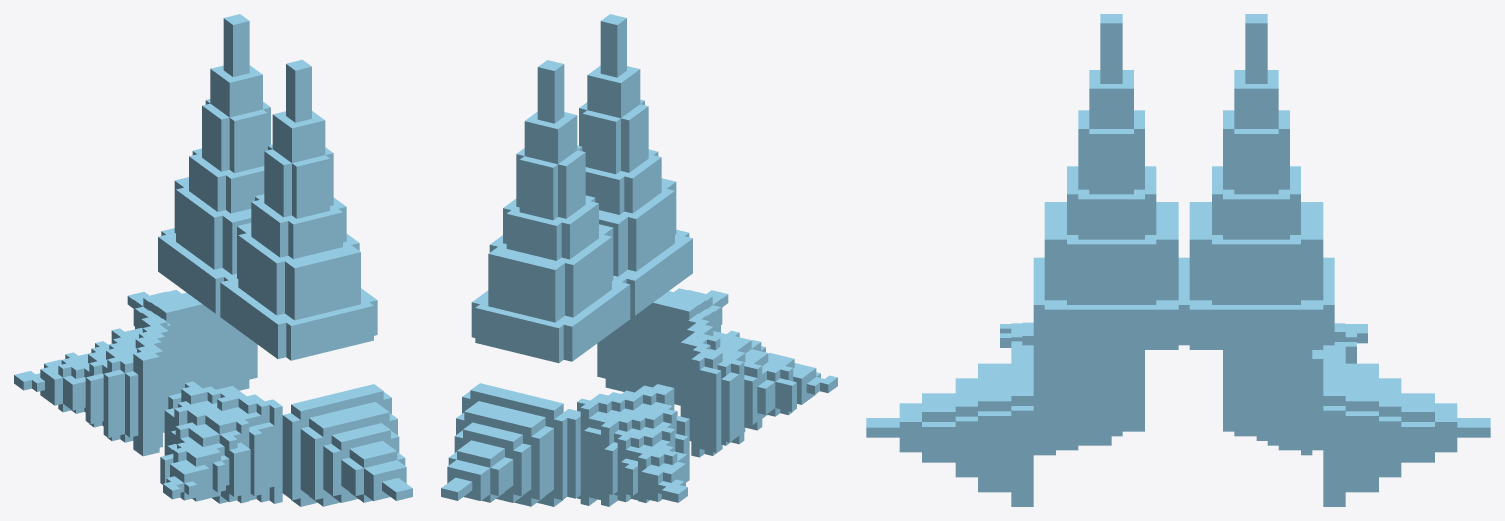
The model's file is Torre_Hielo-0.obj.
3 views of the same model, side by side, from view 1: azimuth 30°, elevation 25°; view 2: azimuth 150°, elevation 25°; view 3: azimuth 270°, elevation 25° (orthographic). The views are drawn at different scales.
Size of the model in its own units: 2.7 by 4.6 by 5.6.
Materials: 1 (1 with a texture image).
